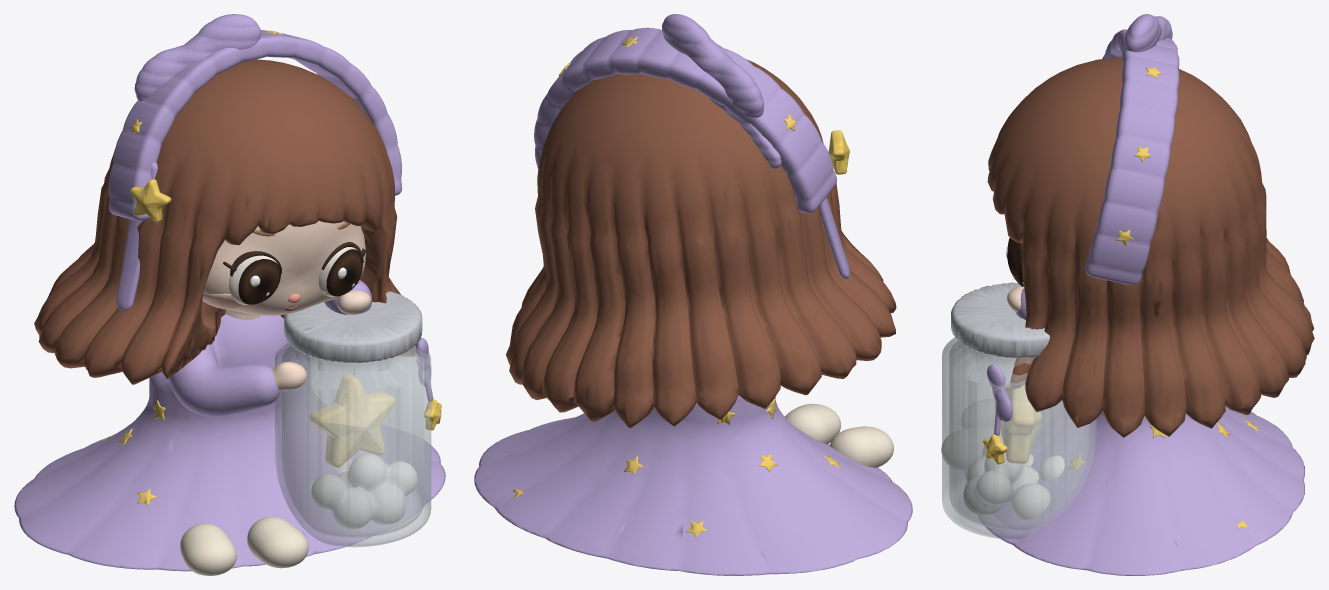
File: echo_roblox.glb
3 renders of one model, left to right at view 1: azimuth 30°, elevation 25°; view 2: azimuth 150°, elevation 25°; view 3: azimuth 270°, elevation 25°, orthographic. The views are drawn at different scales.
Parts seen in each view (by area): view 1: Echo_Hair, Echo_Dress, Echo_Jar, Echo_Headband, Echo_Head, Echo_Lid, Echo_Clouds, Echo_Shoes, Echo_Star, Echo_Bow, Echo_Iris, Echo_BowTails (+5 smaller); view 2: Echo_Hair, Echo_Dress, Echo_Headband, Echo_Bow, Echo_Shoes, Echo_BowTails, Echo_DressStars, Echo_StarClip; view 3: Echo_Hair, Echo_Dress, Echo_Jar, Echo_Headband, Echo_Lid, Echo_Clouds, Echo_Star, Echo_Bow, Echo_JarBow, Echo_Iris, Echo_Charm.
Boxes of the visible parts, left/top/right/bottom form: Echo_Hair: left=34, top=59, right=421, bottom=384; Echo_Dress: left=14, top=280, right=445, bottom=571; Echo_Jar: left=275, top=342, right=431, bottom=547; Echo_Headband: left=109, top=30, right=402, bottom=220; Echo_Head: left=203, top=221, right=365, bottom=319; Echo_Lid: left=284, top=291, right=422, bottom=363; Echo_Clouds: left=309, top=454, right=417, bottom=528; Echo_Shoes: left=180, top=516, right=308, bottom=575; Echo_Star: left=310, top=374, right=394, bottom=467; Echo_Bow: left=134, top=14, right=261, bottom=101; Echo_Iris: left=238, top=249, right=362, bottom=304; Echo_BowTails: left=116, top=162, right=157, bottom=310; Echo_Hair: left=506, top=59, right=896, bottom=428; Echo_Dress: left=474, top=395, right=912, bottom=575; Echo_Headband: left=534, top=27, right=836, bottom=213; Echo_Bow: left=662, top=14, right=781, bottom=168; Echo_Shoes: left=785, top=403, right=893, bottom=467; Echo_BowTails: left=819, top=197, right=850, bottom=278; Echo_DressStars: left=513, top=398, right=840, bottom=537; Echo_StarClip: left=828, top=130, right=849, bottom=174; Echo_Hair: left=987, top=57, right=1314, bottom=437; Echo_Dress: left=978, top=288, right=1304, bottom=575; Echo_Jar: left=942, top=337, right=1096, bottom=539; Echo_Headband: left=1085, top=29, right=1179, bottom=285; Echo_Lid: left=951, top=282, right=1049, bottom=358; Echo_Clouds: left=963, top=436, right=1064, bottom=519; Echo_Star: left=1000, top=382, right=1041, bottom=463; Echo_Bow: left=1123, top=14, right=1172, bottom=52; Echo_JarBow: left=987, top=364, right=1012, bottom=435; Echo_Iris: left=1007, top=238, right=1023, bottom=286; Echo_Charm: left=983, top=434, right=1007, bottom=464.
Size of the model in its own units: 2.82 by 3.22 by 2.33.
Materials: 18 (18 with a texture image).
